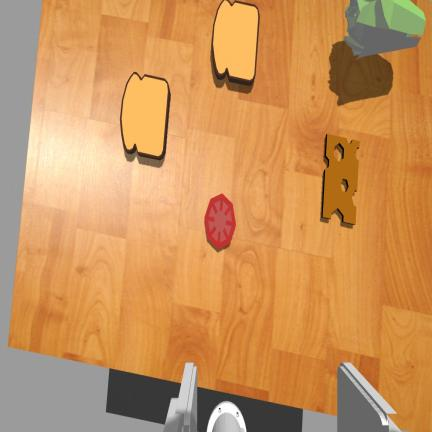cheese: (322, 134, 359, 224)
lettuce: (344, 0, 425, 58)
sliced_bread: (120, 73, 170, 159), (212, 0, 259, 83)
sliced_tomato: (205, 194, 235, 248)
